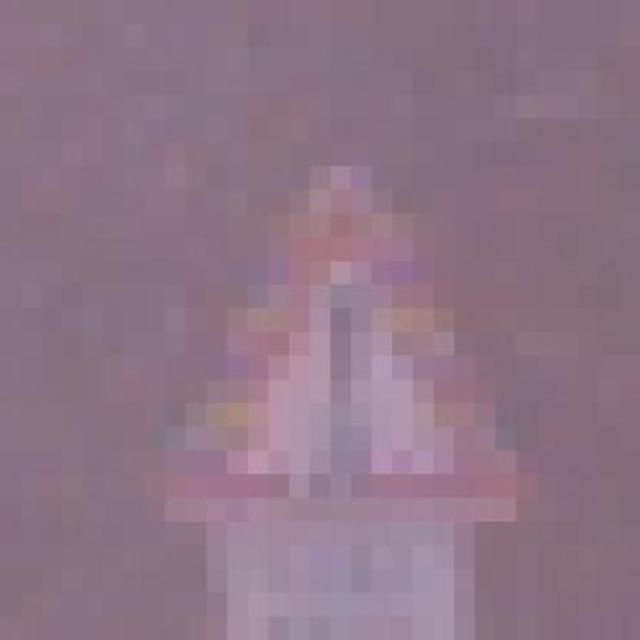Attention Please-: (103, 142, 537, 522)
